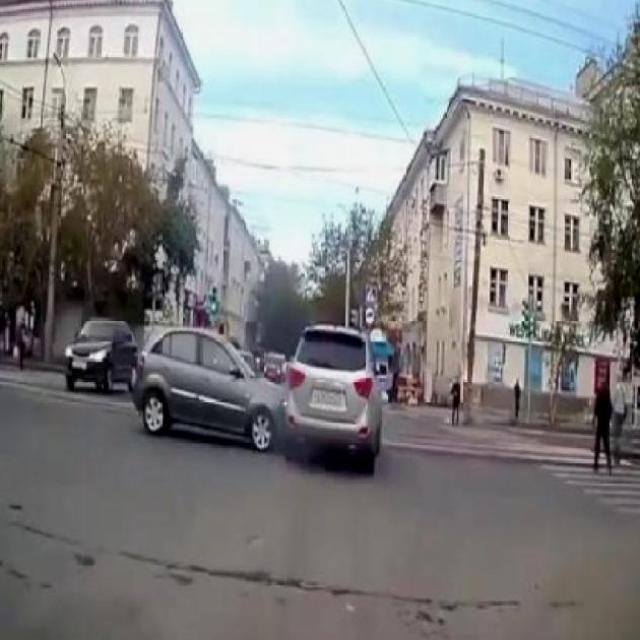accident: (130, 320, 383, 478)
